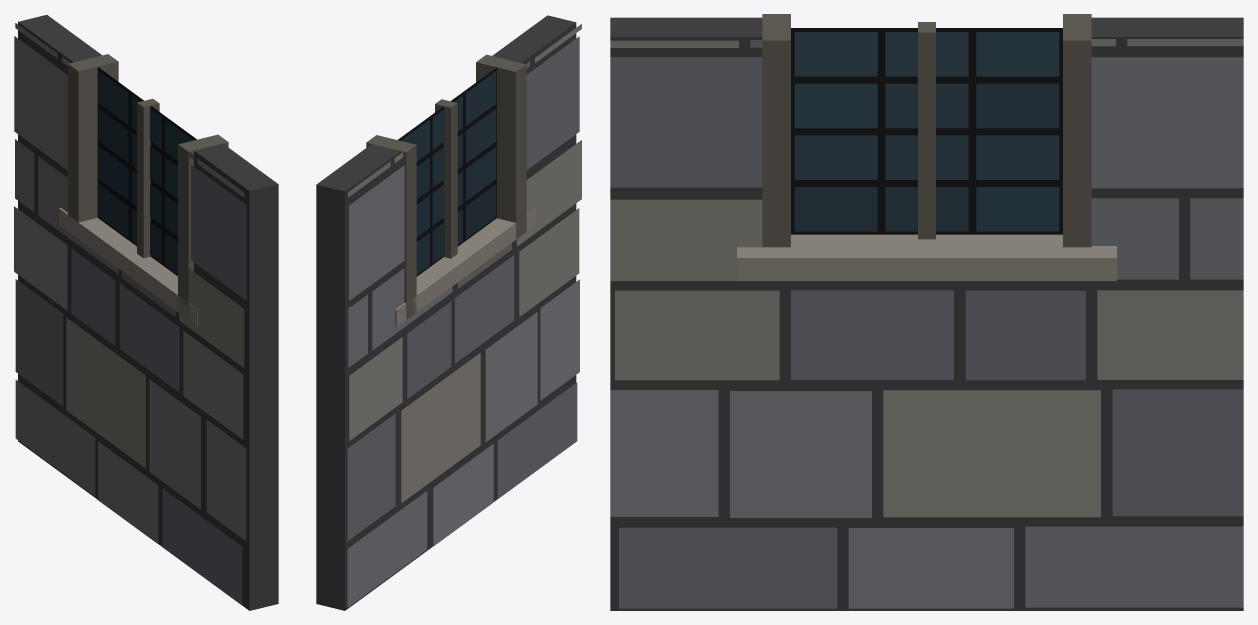
The model's file is wall-stone-window-low.glb.
3 views of the same model, side by side, from view 1: azimuth 30°, elevation 25°; view 2: azimuth 150°, elevation 25°; view 3: azimuth 270°, elevation 25° (orthographic). The views are drawn at different scales.
Visible parts, largest first — view 1: wall-stone-window-low; view 2: wall-stone-window-low; view 3: wall-stone-window-low.
Boxes of the visible parts, <box> form: wall-stone-window-low: <box>14,15,278,610</box>; wall-stone-window-low: <box>316,15,581,610</box>; wall-stone-window-low: <box>610,14,1243,610</box>.
Size of the model in its own units: 0.14 by 1 by 1.
